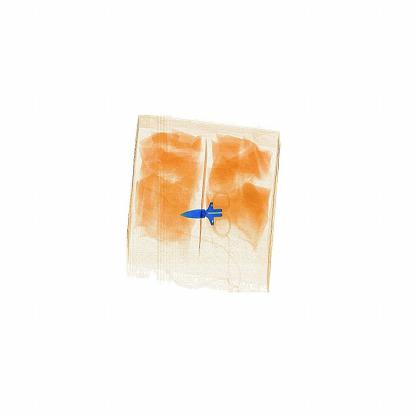gun: (183, 183, 237, 240)
